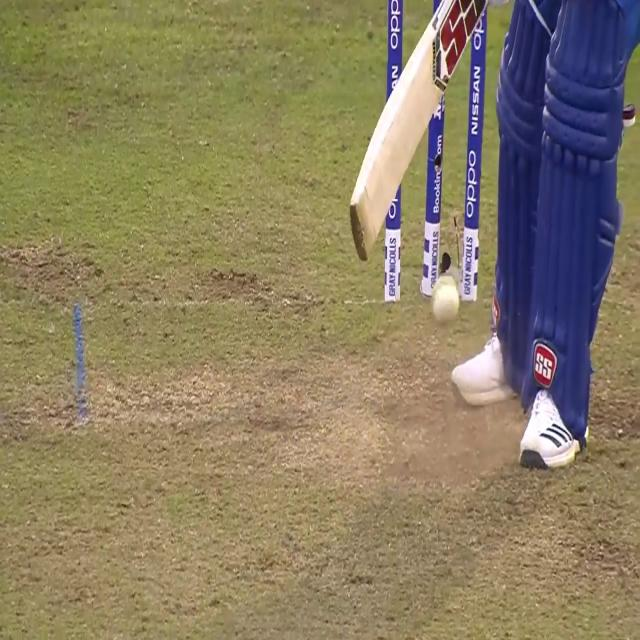ball: (430, 272, 462, 324)
